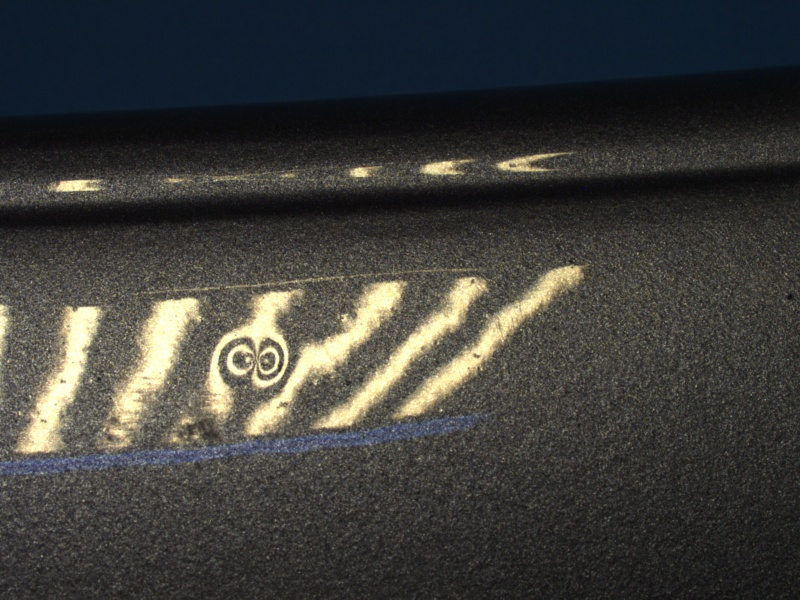bad: (209, 321, 304, 401)
